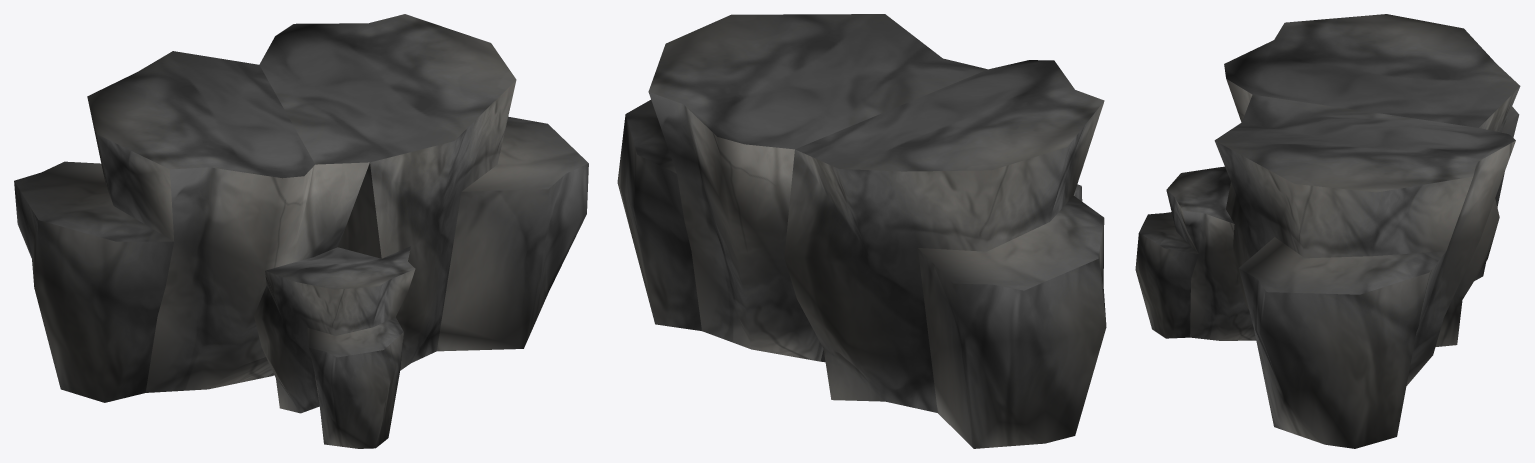
Rendered from M_gake2.fbx.
3 views of the same model, side by side, from view 1: azimuth 30°, elevation 25°; view 2: azimuth 150°, elevation 25°; view 3: azimuth 270°, elevation 25° (orthographic). The views are drawn at different scales.
Parts seen in each view (by area): view 1: M_gake2; view 2: M_gake2; view 3: M_gake2.
Boxes of the visible parts, bbox=[...] form: M_gake2: bbox=[14, 14, 588, 448]; M_gake2: bbox=[617, 14, 1106, 448]; M_gake2: bbox=[1135, 14, 1520, 448].
Bounding box in the file's own units: 7060 × 3570 × 5091.
Materials: 1 (1 with a texture image).
